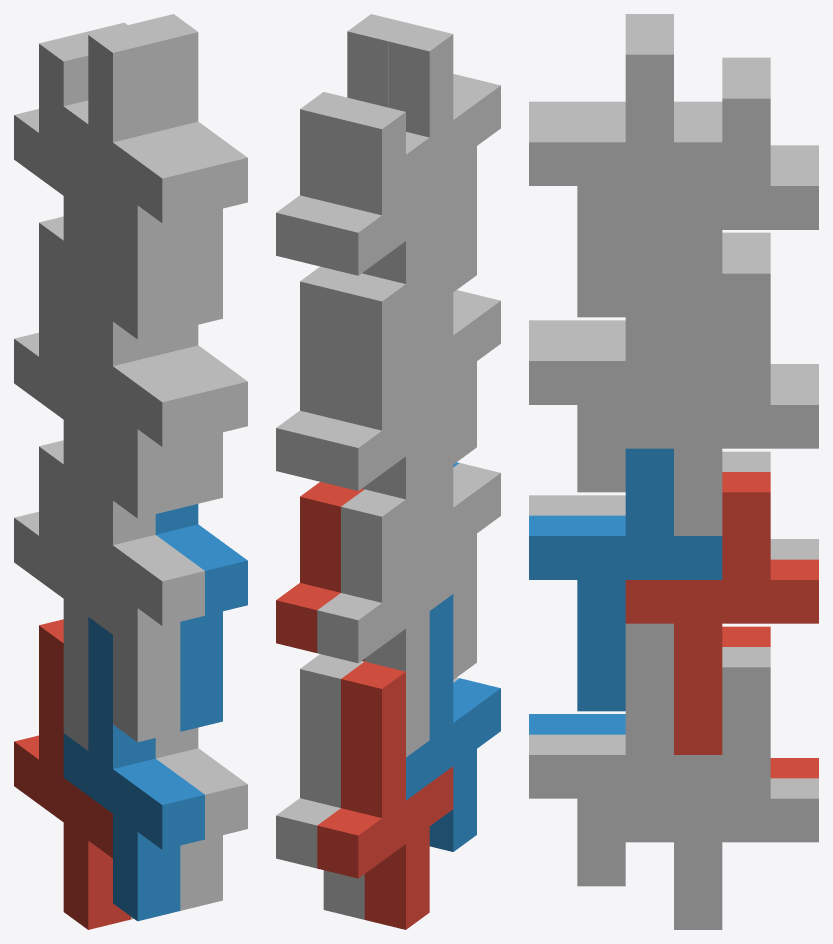
The model's file is tiling.obj.
3 renders of one model, left to right at view 1: azimuth 30°, elevation 25°; view 2: azimuth 150°, elevation 25°; view 3: azimuth 270°, elevation 25°, orthographic. The views are drawn at different scales.
Visible parts, largest first — view 1: copy_2_domain_4, copy_2_domain_2, copy_1_domain_4, copy_1_domain_2, copy_2_domain_8, copy_1_domain_1, copy_2_domain_3, copy_2_domain_1, copy_1_domain_3, copy_2_domain_6, copy_1_domain_8, copy_1_domain_6; view 2: copy_1_domain_1, copy_1_domain_3, copy_2_domain_1, copy_2_domain_3, copy_2_domain_4, copy_1_domain_2, copy_1_domain_5, copy_1_domain_4, copy_2_domain_2, copy_1_domain_7, copy_2_domain_7, copy_2_domain_5 (+1 smaller); view 3: copy_2_domain_8, copy_1_domain_5, copy_1_domain_6, copy_2_domain_6, copy_1_domain_8, copy_1_domain_7, copy_2_domain_5, copy_2_domain_7, copy_2_domain_4, copy_1_domain_3, copy_2_domain_1, copy_2_domain_3 (+4 smaller).
Part boxes in pixels (bbox=[...]): copy_2_domain_4: bbox=[63, 24, 204, 339]; copy_2_domain_2: bbox=[63, 438, 204, 742]; copy_1_domain_4: bbox=[63, 214, 204, 518]; copy_1_domain_2: bbox=[63, 617, 204, 921]; copy_2_domain_8: bbox=[131, 14, 247, 328]; copy_1_domain_1: bbox=[14, 619, 130, 929]; copy_2_domain_3: bbox=[14, 33, 112, 347]; copy_2_domain_1: bbox=[14, 440, 112, 750]; copy_1_domain_3: bbox=[14, 216, 112, 526]; copy_2_domain_6: bbox=[155, 504, 247, 731]; copy_1_domain_8: bbox=[155, 325, 247, 507]; copy_1_domain_6: bbox=[155, 727, 247, 910]; copy_1_domain_1: bbox=[317, 661, 453, 929]; copy_1_domain_3: bbox=[317, 274, 453, 541]; copy_2_domain_1: bbox=[317, 489, 453, 757]; copy_2_domain_3: bbox=[317, 102, 453, 369]; copy_2_domain_4: bbox=[388, 24, 500, 291]; copy_1_domain_2: bbox=[406, 594, 500, 851]; copy_1_domain_5: bbox=[276, 654, 364, 919]; copy_1_domain_4: bbox=[406, 206, 500, 464]; copy_2_domain_2: bbox=[406, 422, 500, 679]; copy_1_domain_7: bbox=[276, 266, 364, 489]; copy_2_domain_7: bbox=[276, 92, 364, 273]; copy_2_domain_5: bbox=[276, 482, 364, 661]; copy_2_domain_8: bbox=[529, 34, 722, 317]; copy_1_domain_5: bbox=[625, 647, 818, 929]; copy_1_domain_6: bbox=[529, 623, 722, 886]; copy_2_domain_6: bbox=[529, 448, 722, 711]; copy_1_domain_8: bbox=[529, 230, 722, 492]; copy_1_domain_7: bbox=[625, 253, 818, 535]; copy_2_domain_5: bbox=[625, 472, 818, 754]; copy_2_domain_7: bbox=[625, 78, 818, 360]; copy_2_domain_4: bbox=[529, 14, 722, 121]; copy_1_domain_3: bbox=[722, 232, 818, 384]; copy_2_domain_1: bbox=[722, 451, 818, 559]; copy_2_domain_3: bbox=[722, 57, 818, 165].
Bounding box in the file's own units: 2 × 20 × 6.
